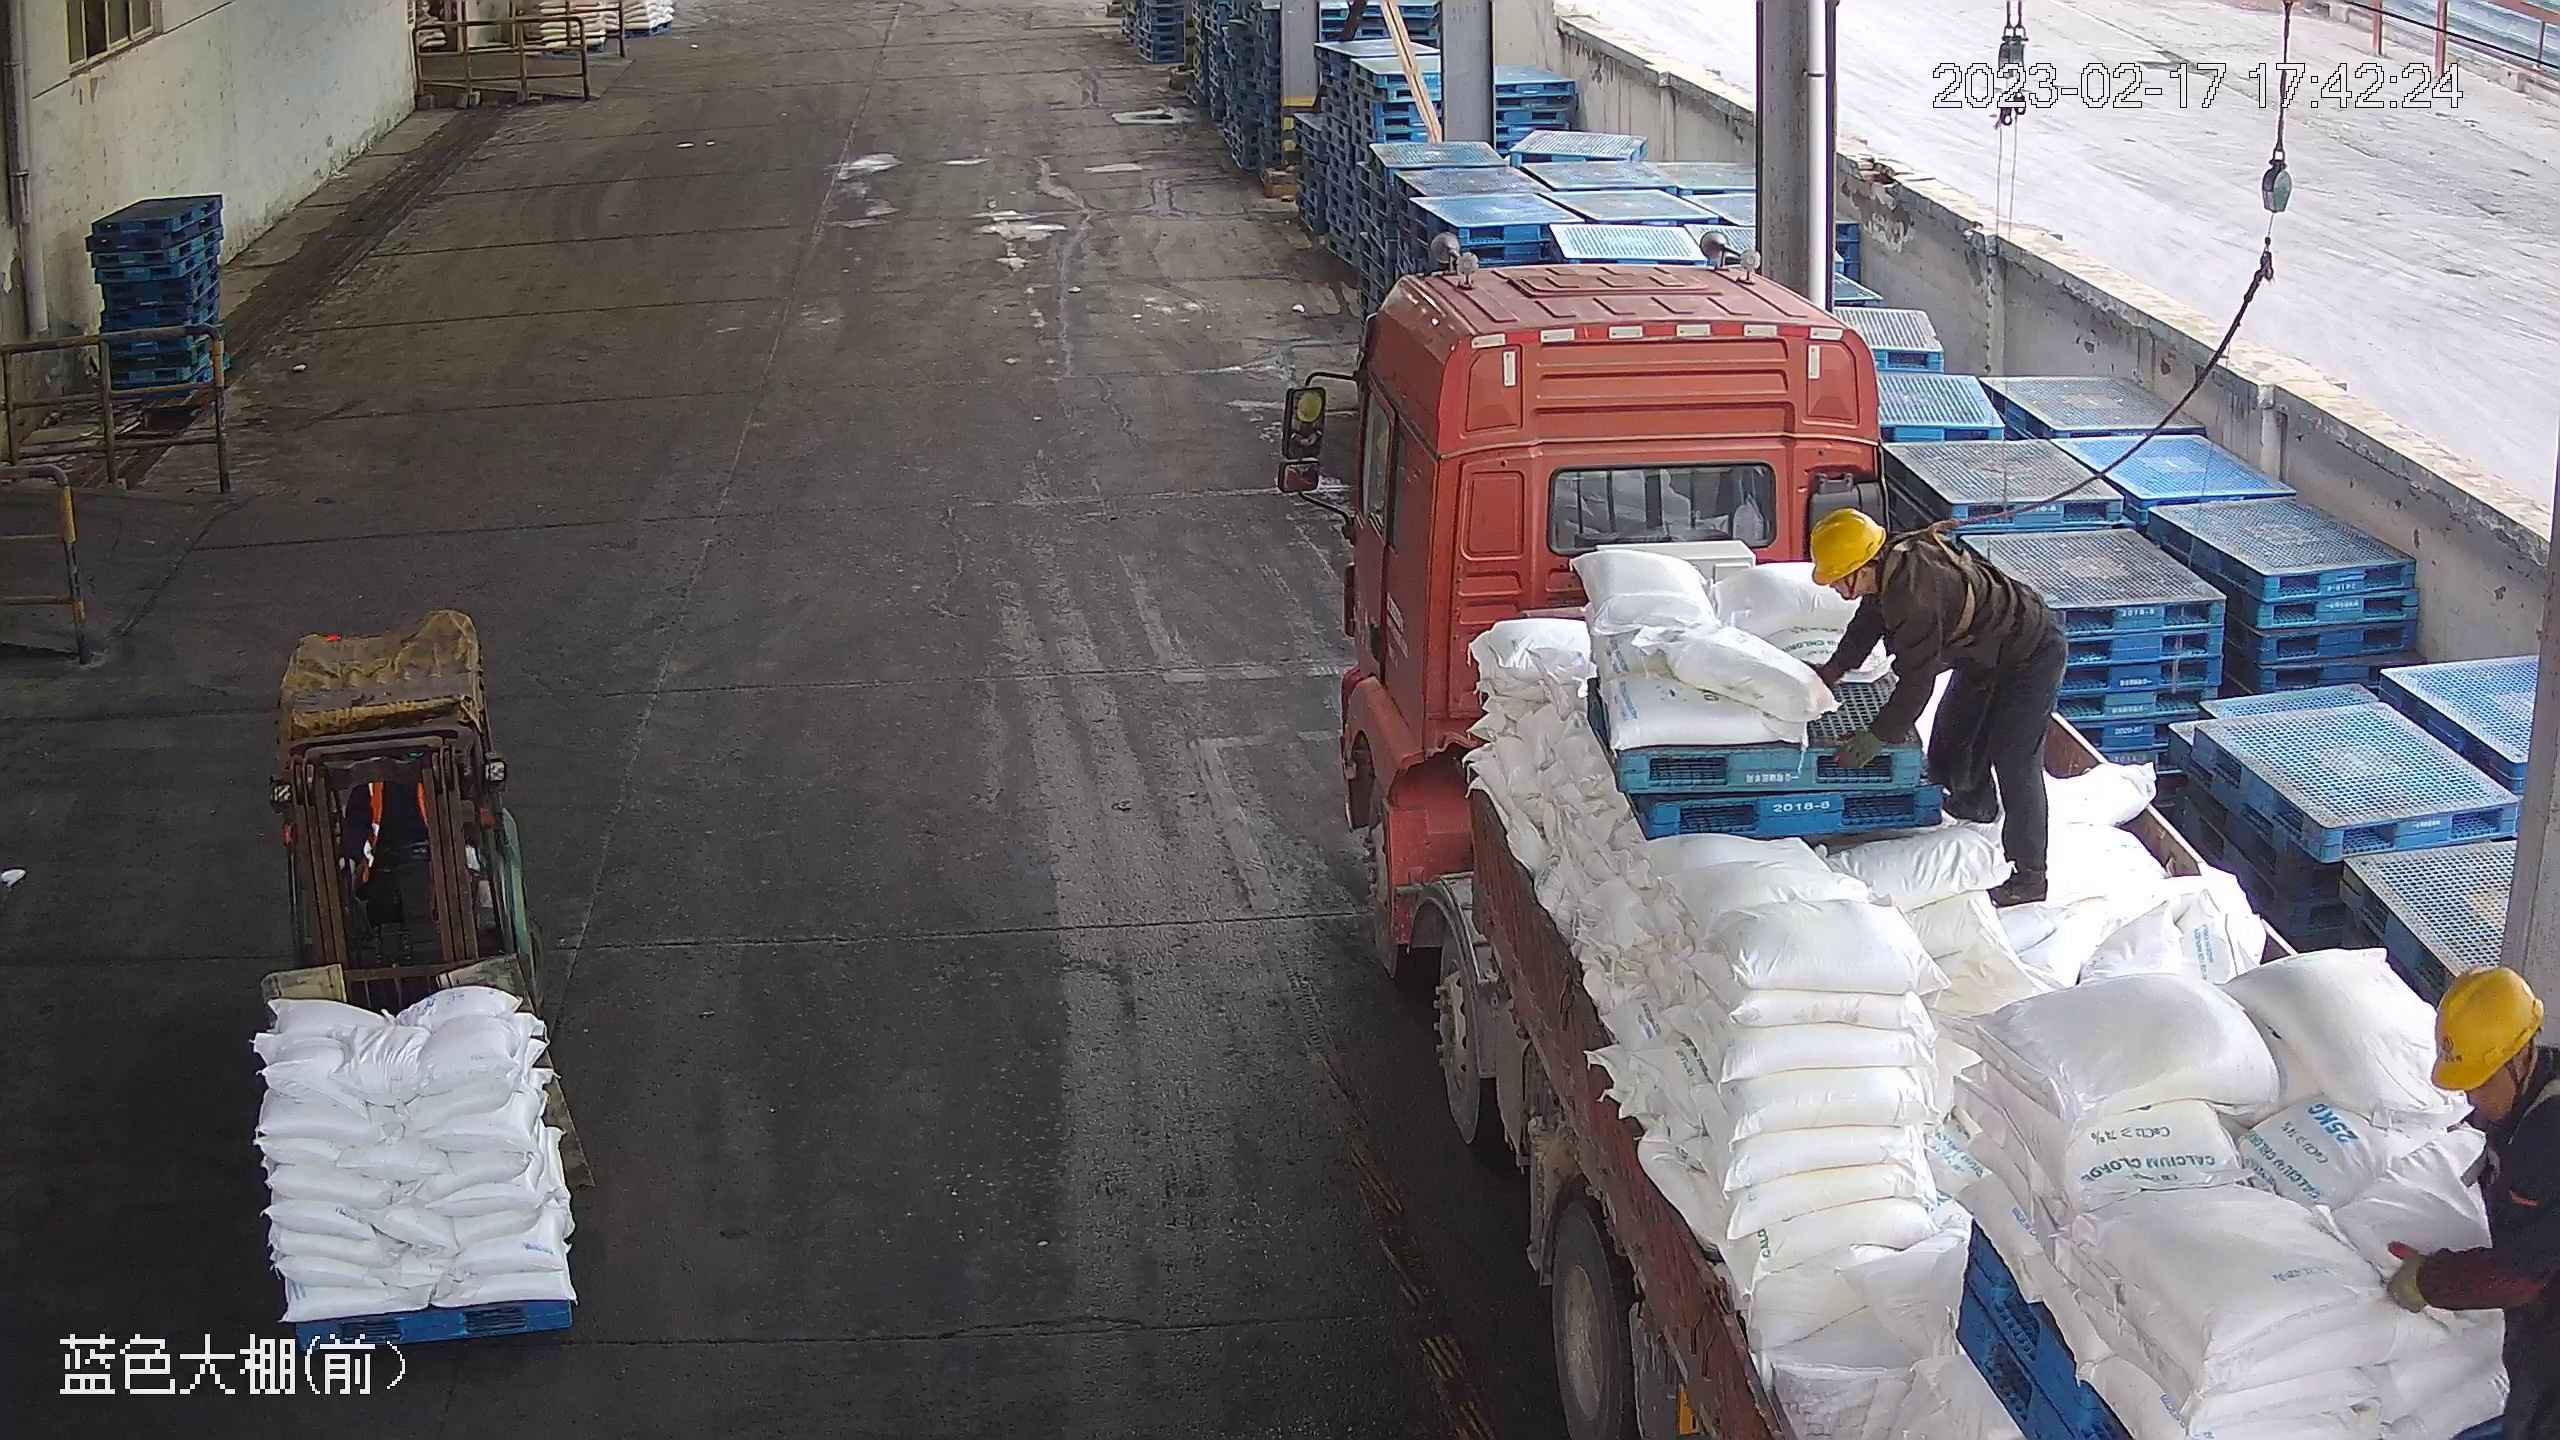belt: (1891, 513, 2012, 639)
head: (2396, 966, 2560, 1254), (1808, 511, 1981, 645)
helmet: (2430, 967, 2549, 1094), (1810, 506, 1891, 584)
people: (1810, 510, 2071, 913)
truck: (1278, 262, 2560, 1440)
